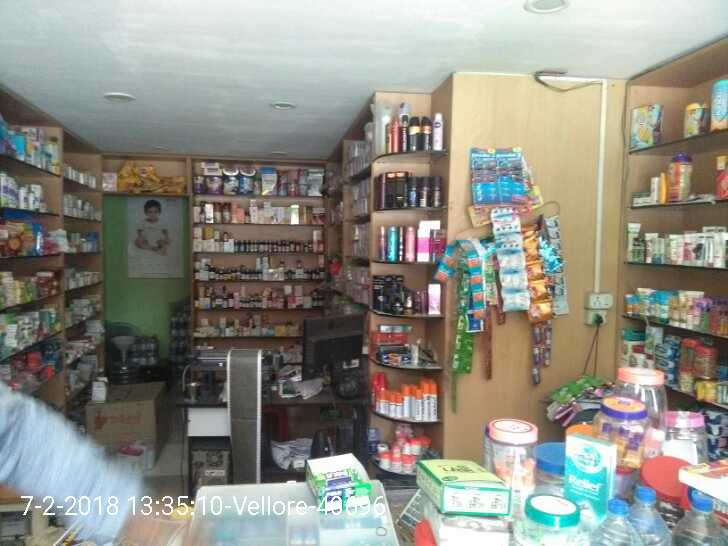reject: (272, 220, 327, 285)
